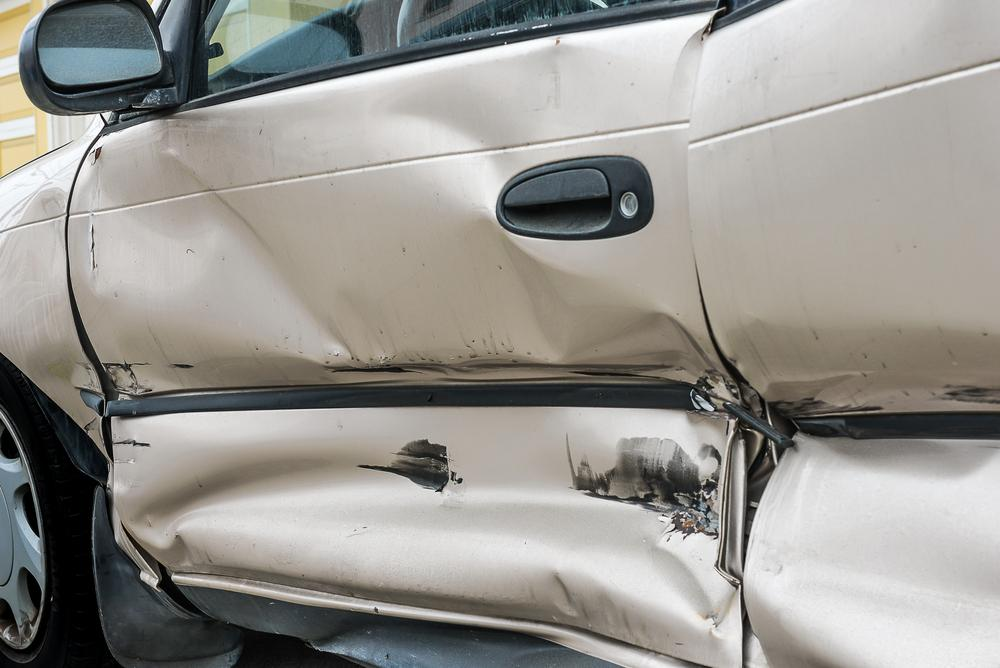dent: (84, 34, 740, 652), (730, 326, 1000, 667)
